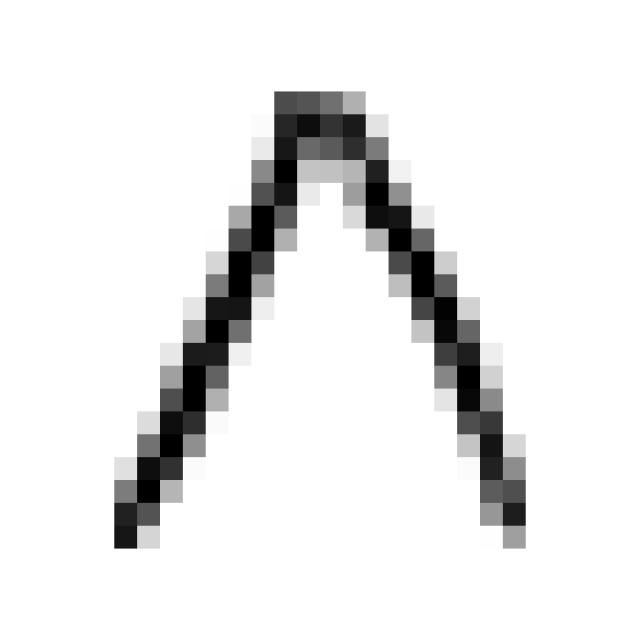8 -eight-: (89, 64, 548, 568)
